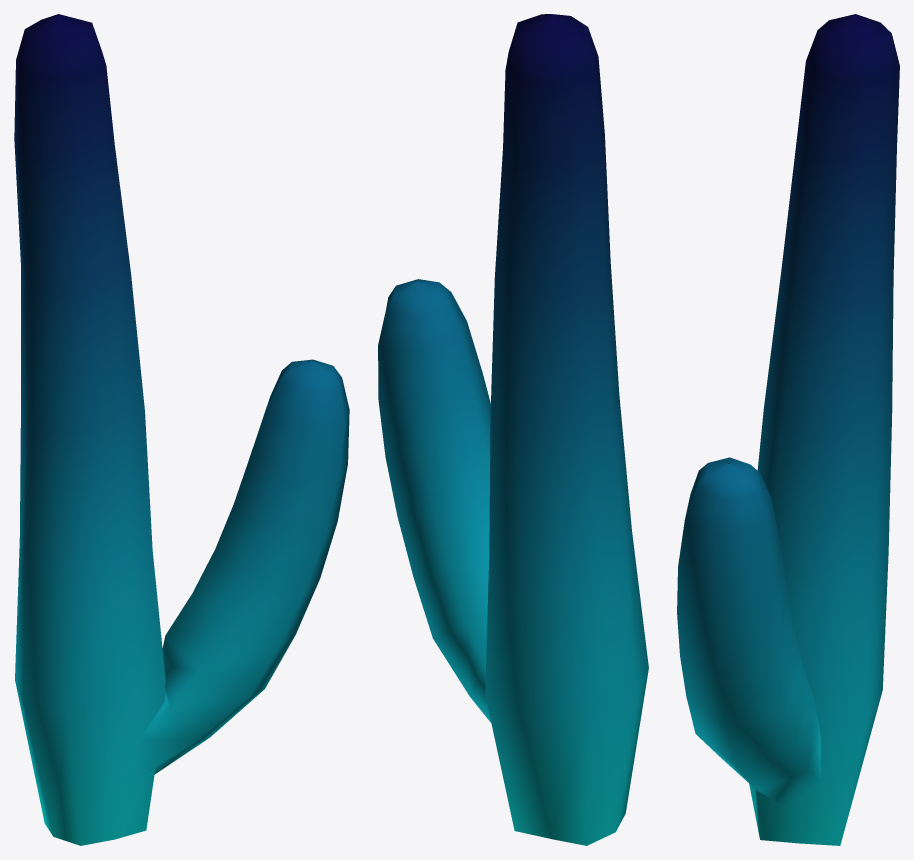
File: Saguaro3.fbx
The picture shows the model from 3 angles, left to right: view 1: azimuth 30°, elevation 25°; view 2: azimuth 150°, elevation 25°; view 3: azimuth 270°, elevation 25°; orthographic projection. The views are drawn at different scales.
Parts seen in each view (by area): view 1: Saguaro3_LOD0; view 2: Saguaro3_LOD0; view 3: Saguaro3_LOD0.
Boxes of the visible parts, bbox=[...] form: Saguaro3_LOD0: bbox=[14, 14, 349, 845]; Saguaro3_LOD0: bbox=[378, 14, 648, 845]; Saguaro3_LOD0: bbox=[677, 14, 899, 845].
Size of what is drawn, in the model's own units: 82.82 by 222 by 55.39.
